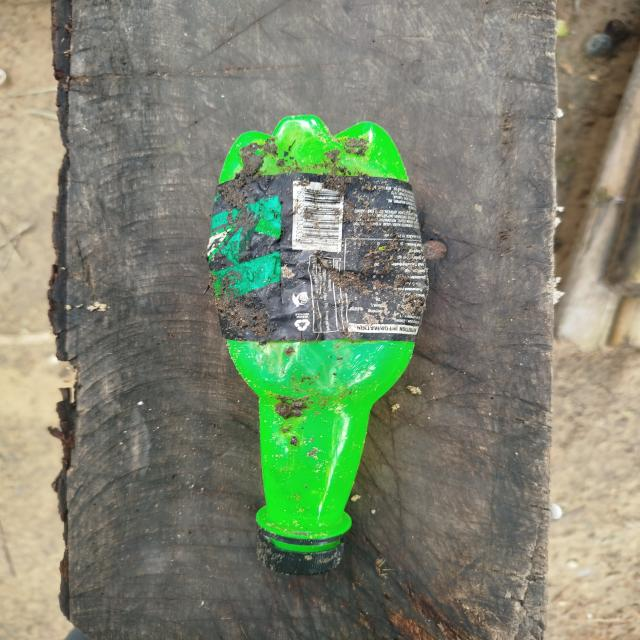plastic: (200, 98, 438, 586)
